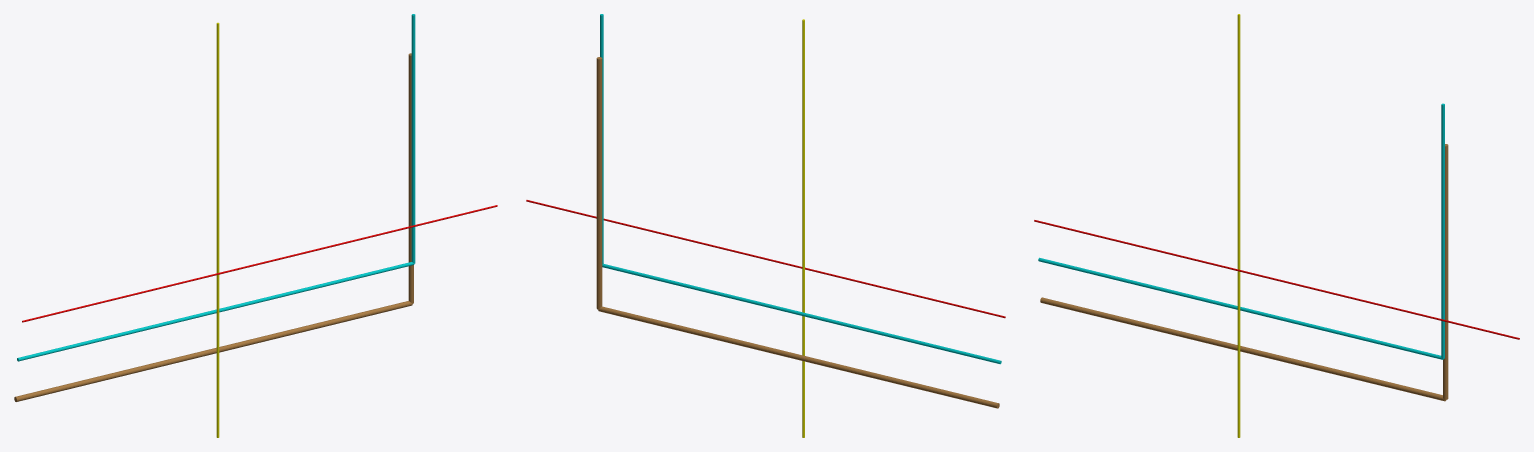
The model's file is demo_pipes.glb.
3 views of the same model, side by side, from view 1: azimuth 30°, elevation 25°; view 2: azimuth 150°, elevation 25°; view 3: azimuth 330°, elevation 25° (orthographic). The views are drawn at different scales.
Visible parts, largest first — view 1: world; view 2: world; view 3: world.
Boxes of the visible parts, bbox=[...] form: world: bbox=[14, 14, 497, 437]; world: bbox=[526, 14, 1005, 437]; world: bbox=[1034, 14, 1519, 437].
Bounding box in the file's own units: 60 × 50 × 1.9.
